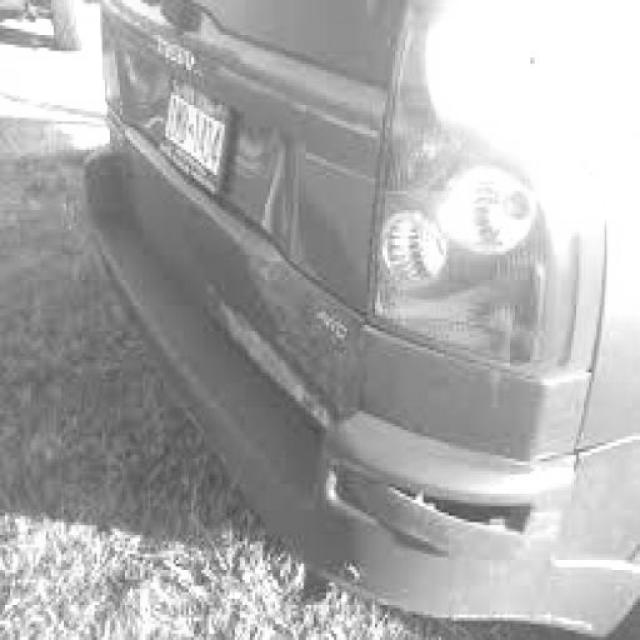car damage: (317, 445, 570, 585), (241, 136, 372, 380)
